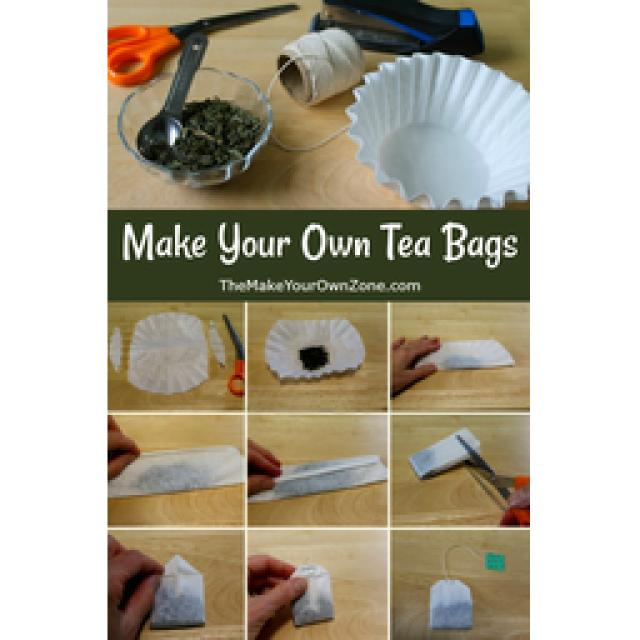tea-bags: (108, 447, 244, 498), (249, 456, 387, 502), (150, 555, 205, 629), (409, 428, 480, 479), (420, 339, 515, 370), (292, 565, 334, 626), (430, 579, 472, 629)
